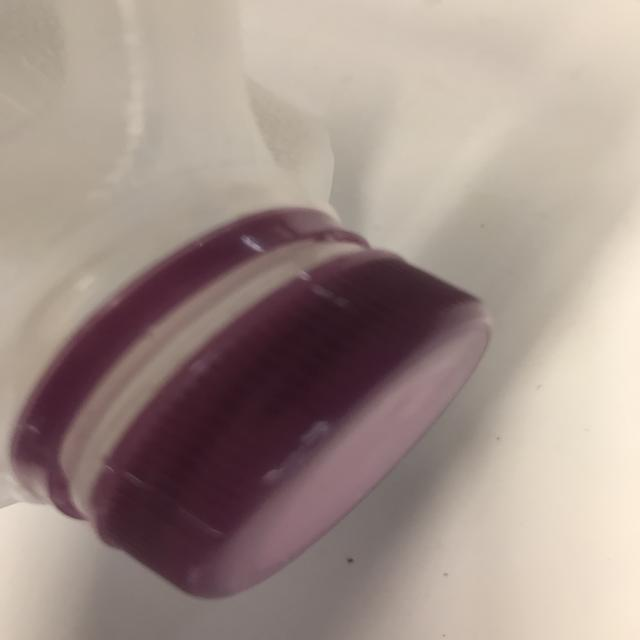plastic: (0, 0, 557, 621)
